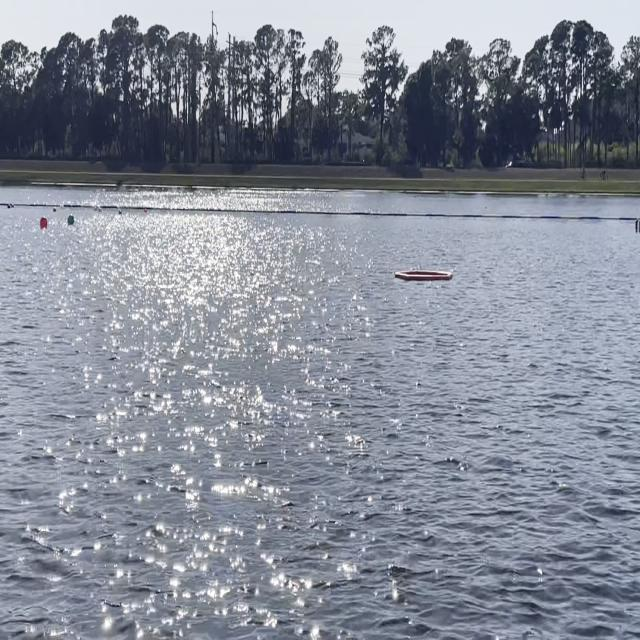buoy: (34, 210, 52, 238), (64, 210, 80, 235)
